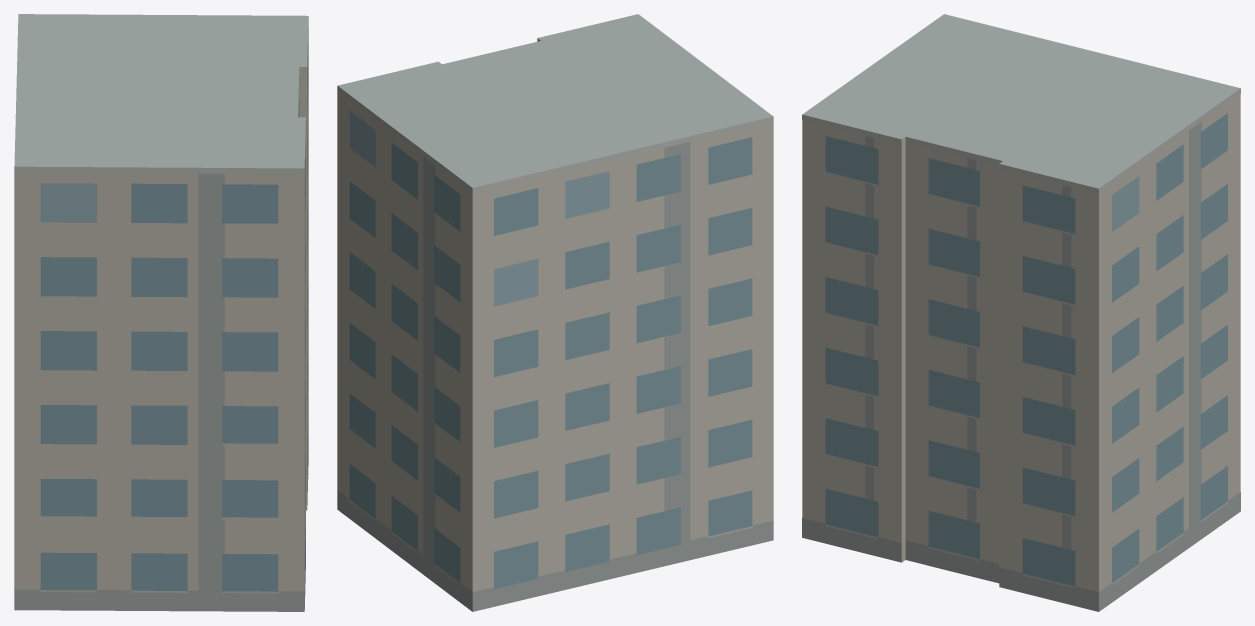
Rendered from survey-upis-32792254.glb.
3 views of the same model, side by side, from view 1: azimuth 30°, elevation 25°; view 2: azimuth 150°, elevation 25°; view 3: azimuth 270°, elevation 25° (orthographic). The views are drawn at different scales.
Visible parts, largest first — view 1: survey-upis-32792254.tmp; view 2: survey-upis-32792254.tmp; view 3: survey-upis-32792254.tmp.
Part boxes in pixels (bbox=[...]): survey-upis-32792254.tmp: bbox=[14, 14, 308, 611]; survey-upis-32792254.tmp: bbox=[337, 14, 773, 611]; survey-upis-32792254.tmp: bbox=[802, 14, 1240, 611].
Size of the model in its own units: 16.65 by 18.8 by 17.67.
